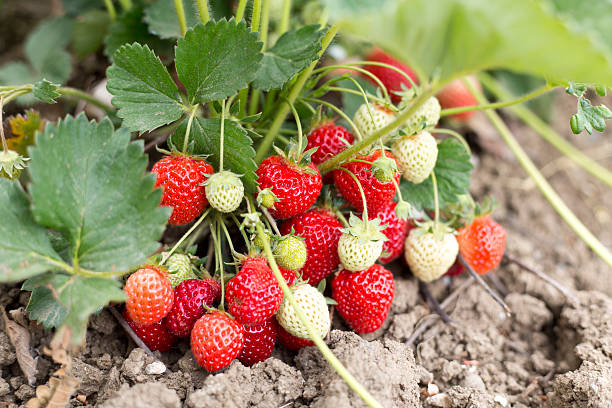Fresa: (276, 207, 348, 288), (147, 150, 218, 230), (331, 145, 403, 223), (254, 145, 325, 224), (228, 250, 288, 330), (332, 260, 395, 328), (456, 202, 509, 280), (189, 305, 246, 374), (122, 262, 178, 331), (169, 274, 217, 341), (307, 117, 357, 174)
